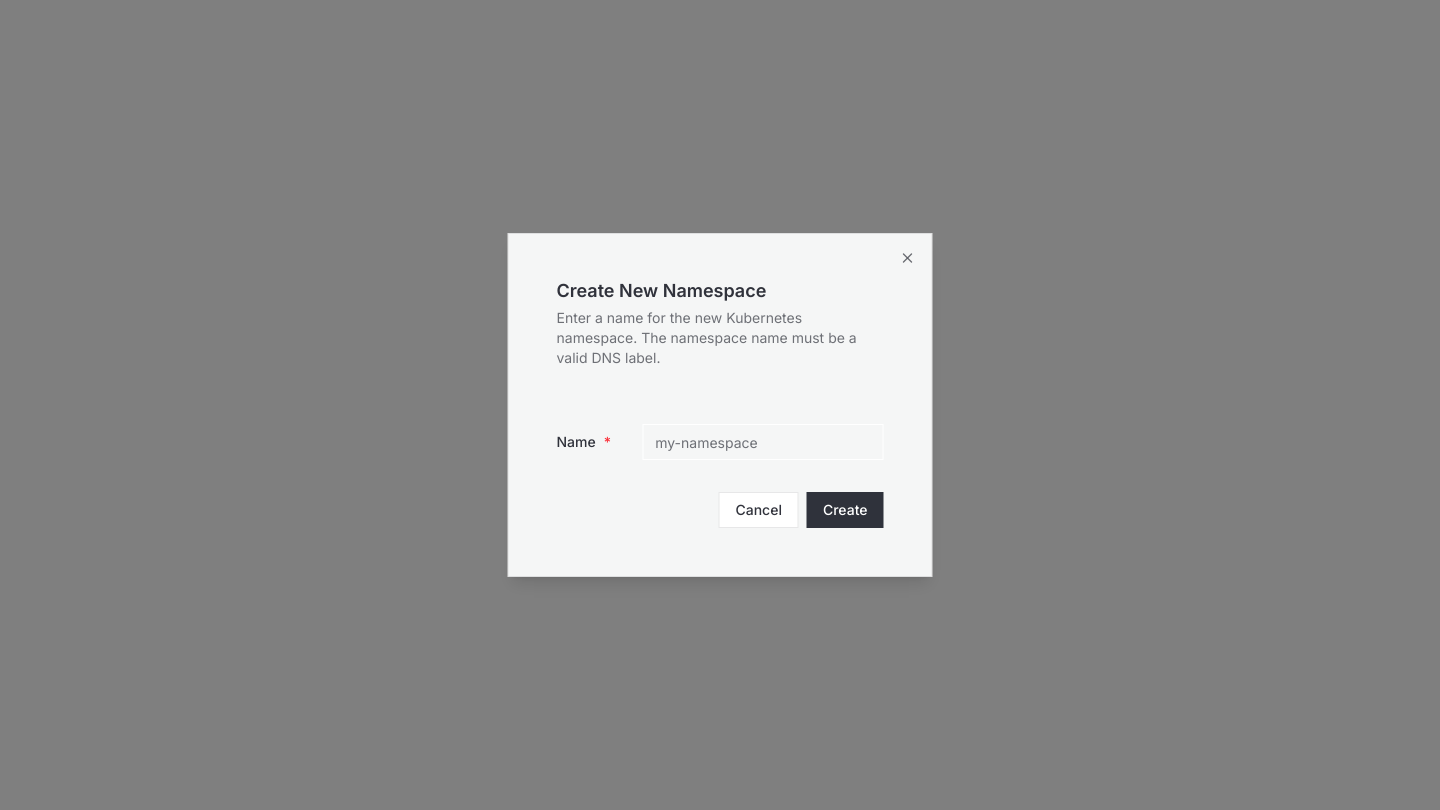
NamespaceEditor › validation › should show error for name ending with hyphen
Type "invalid-name-" into the field with placeholder "my-namespace".
click(763, 442); type("invalid-name-")  # box [642, 424, 884, 460]
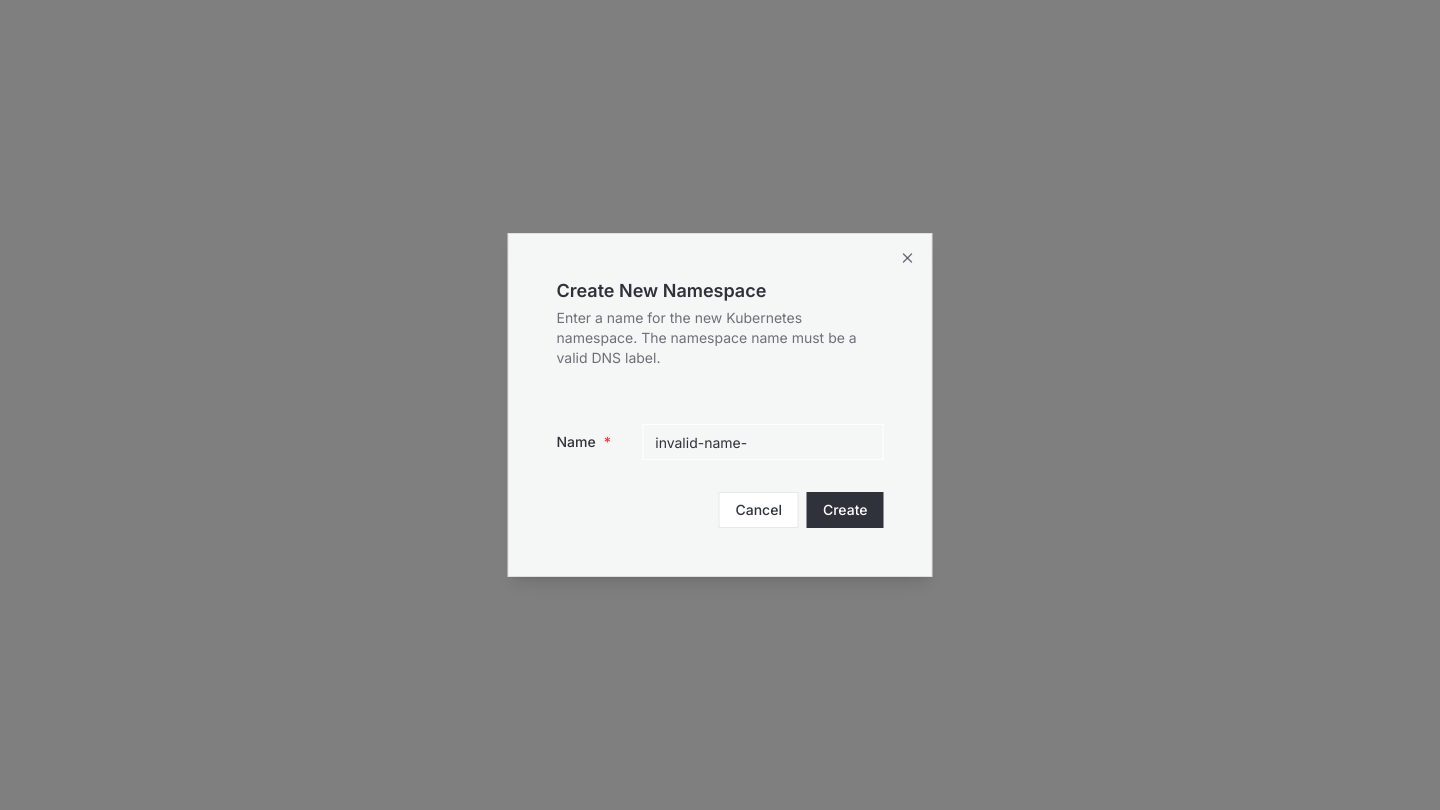
Click the button "Create".
click(845, 510)  # box [807, 492, 884, 528]
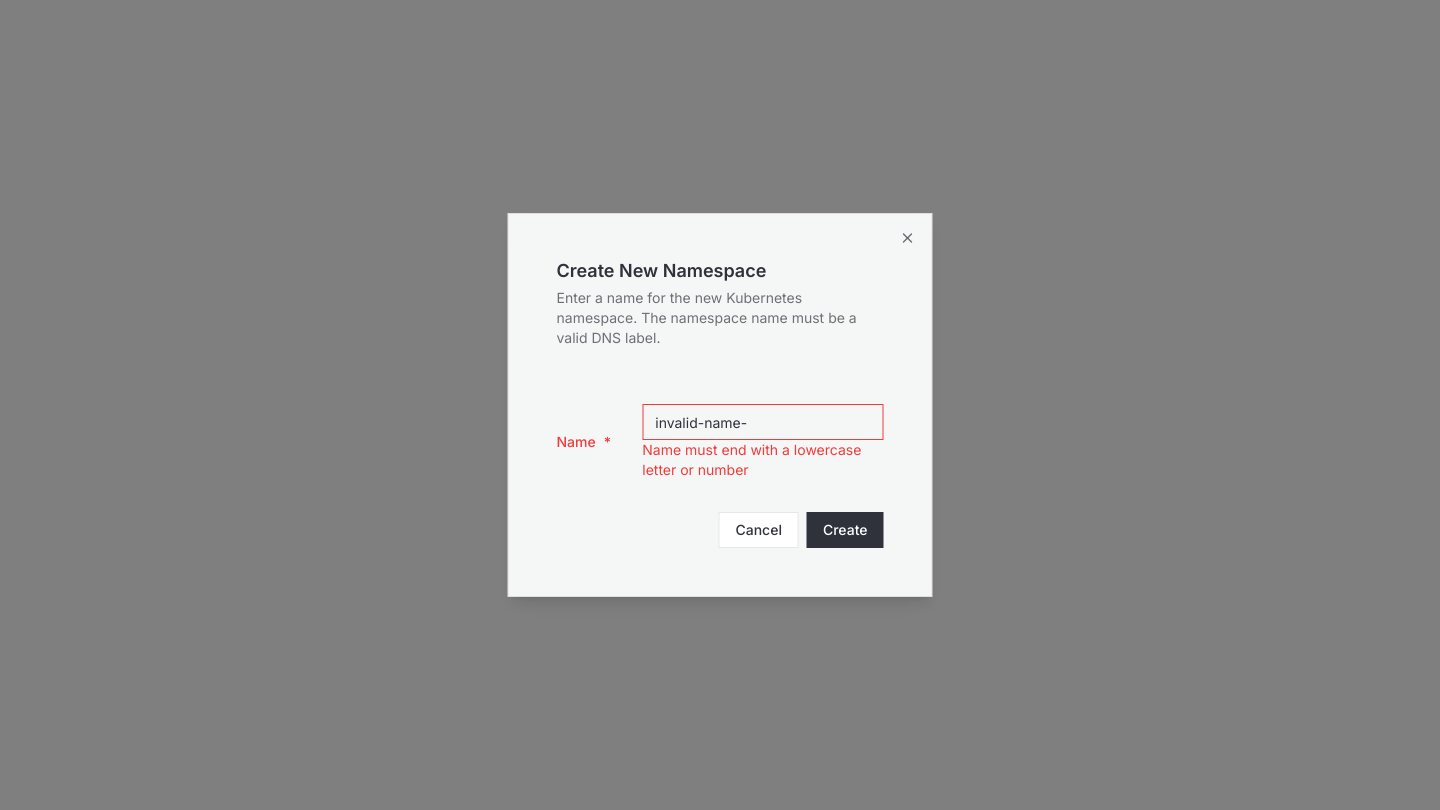
Now the text "Name must end with a lowercase letter or number" is shown, box [642, 440, 884, 480]
